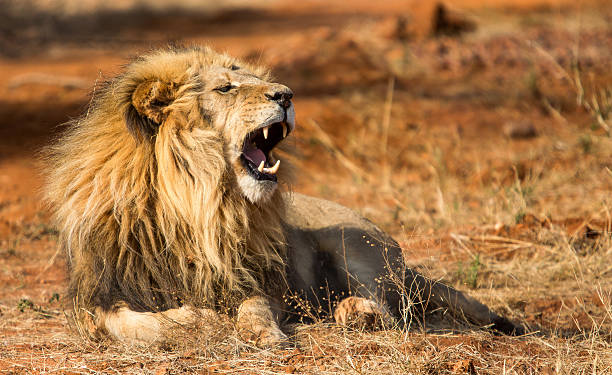lion: (25, 33, 352, 356)
